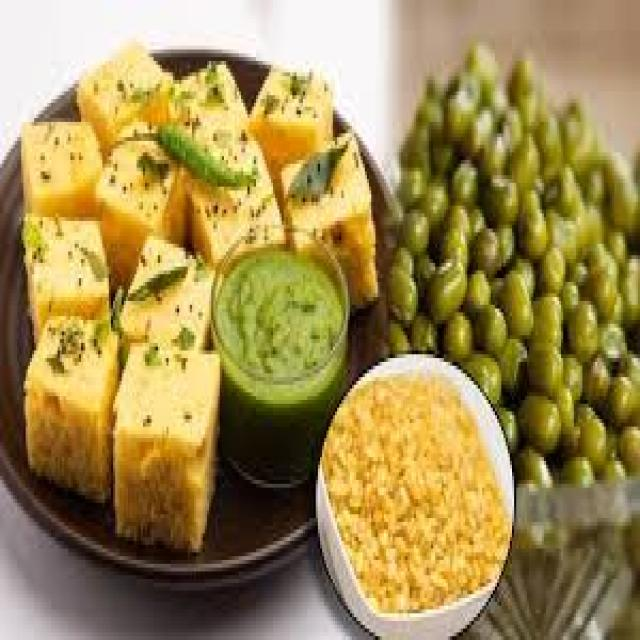DHOKLA: (115, 339, 218, 549), (23, 301, 117, 499), (119, 61, 260, 187), (279, 133, 375, 305), (96, 141, 183, 282), (250, 69, 331, 210), (21, 213, 107, 331), (119, 236, 213, 343), (77, 42, 171, 149), (192, 164, 282, 259), (21, 122, 100, 213), (124, 263, 186, 297)
